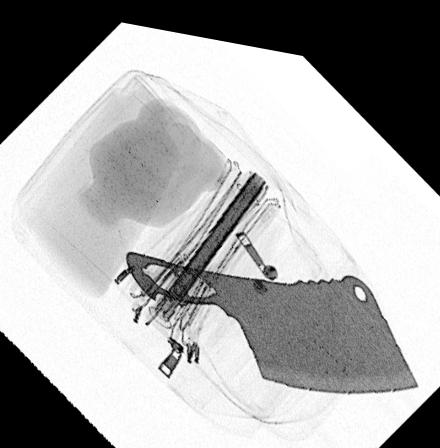Knife: (120, 246, 422, 382)
